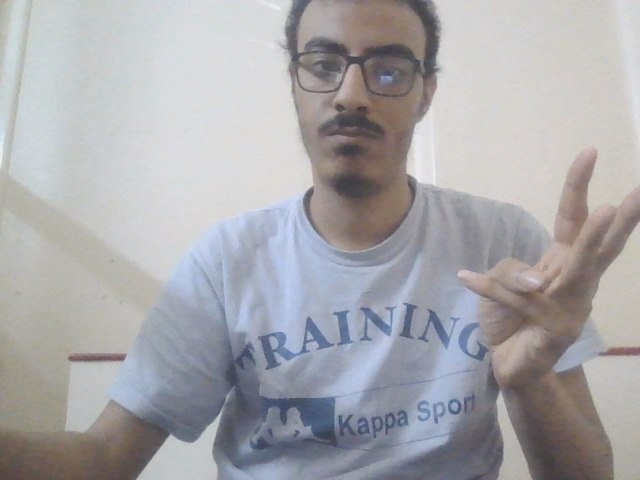Water: (451, 138, 640, 405)
